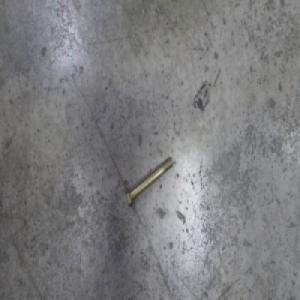Bolt: (124, 153, 174, 211)
